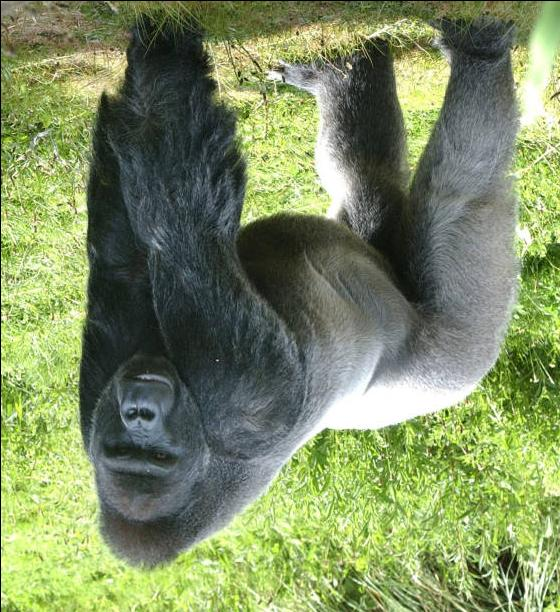gorille_Autres: (28, 0, 552, 587)
